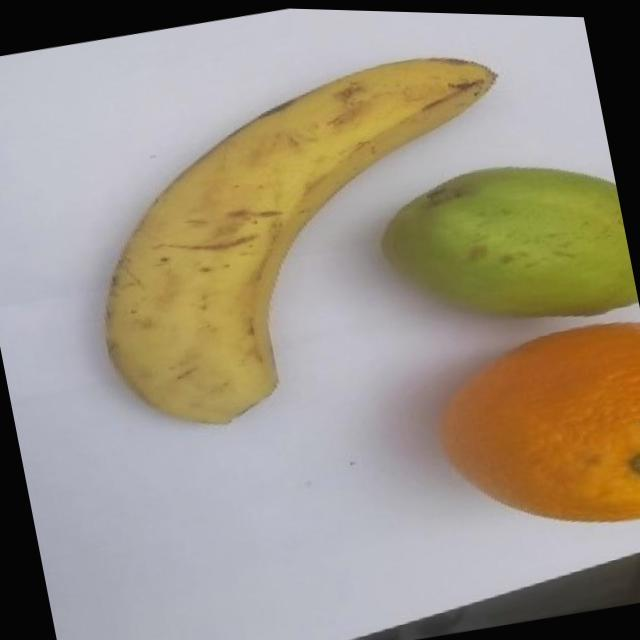Banana: (62, 31, 551, 450)
Orange: (424, 306, 640, 554)
